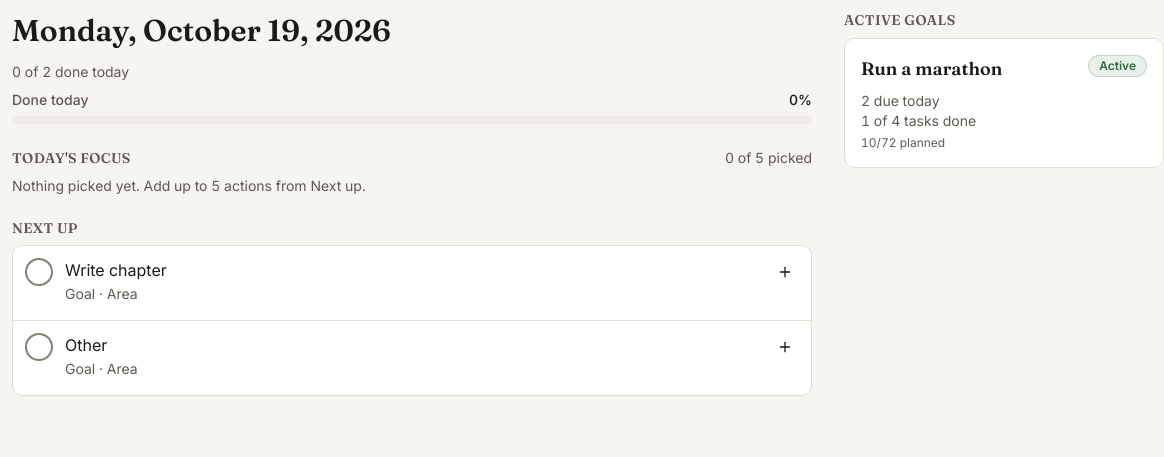
Scenario: TodayView › add failure rolls back and shows the message
The width and height of the screenshot is (1164, 457).
Click the button named "Add to today: Write chapter" at (785, 272), box [763,250,807,294]
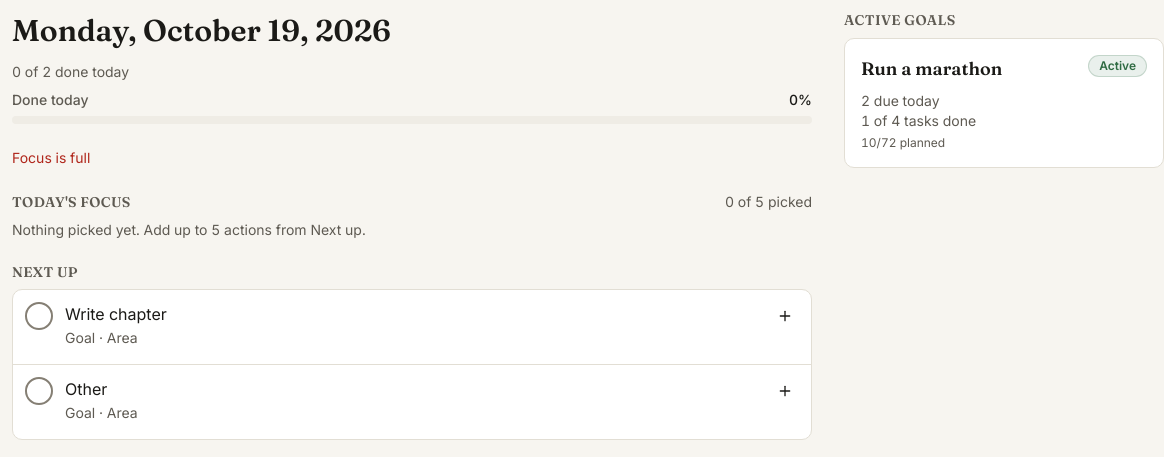
expect the list item "Write chapter Goal · Area" is shown: met, box [13,290,811,365]
expect the message reads "Focus is full": met, box [12,148,90,166]
